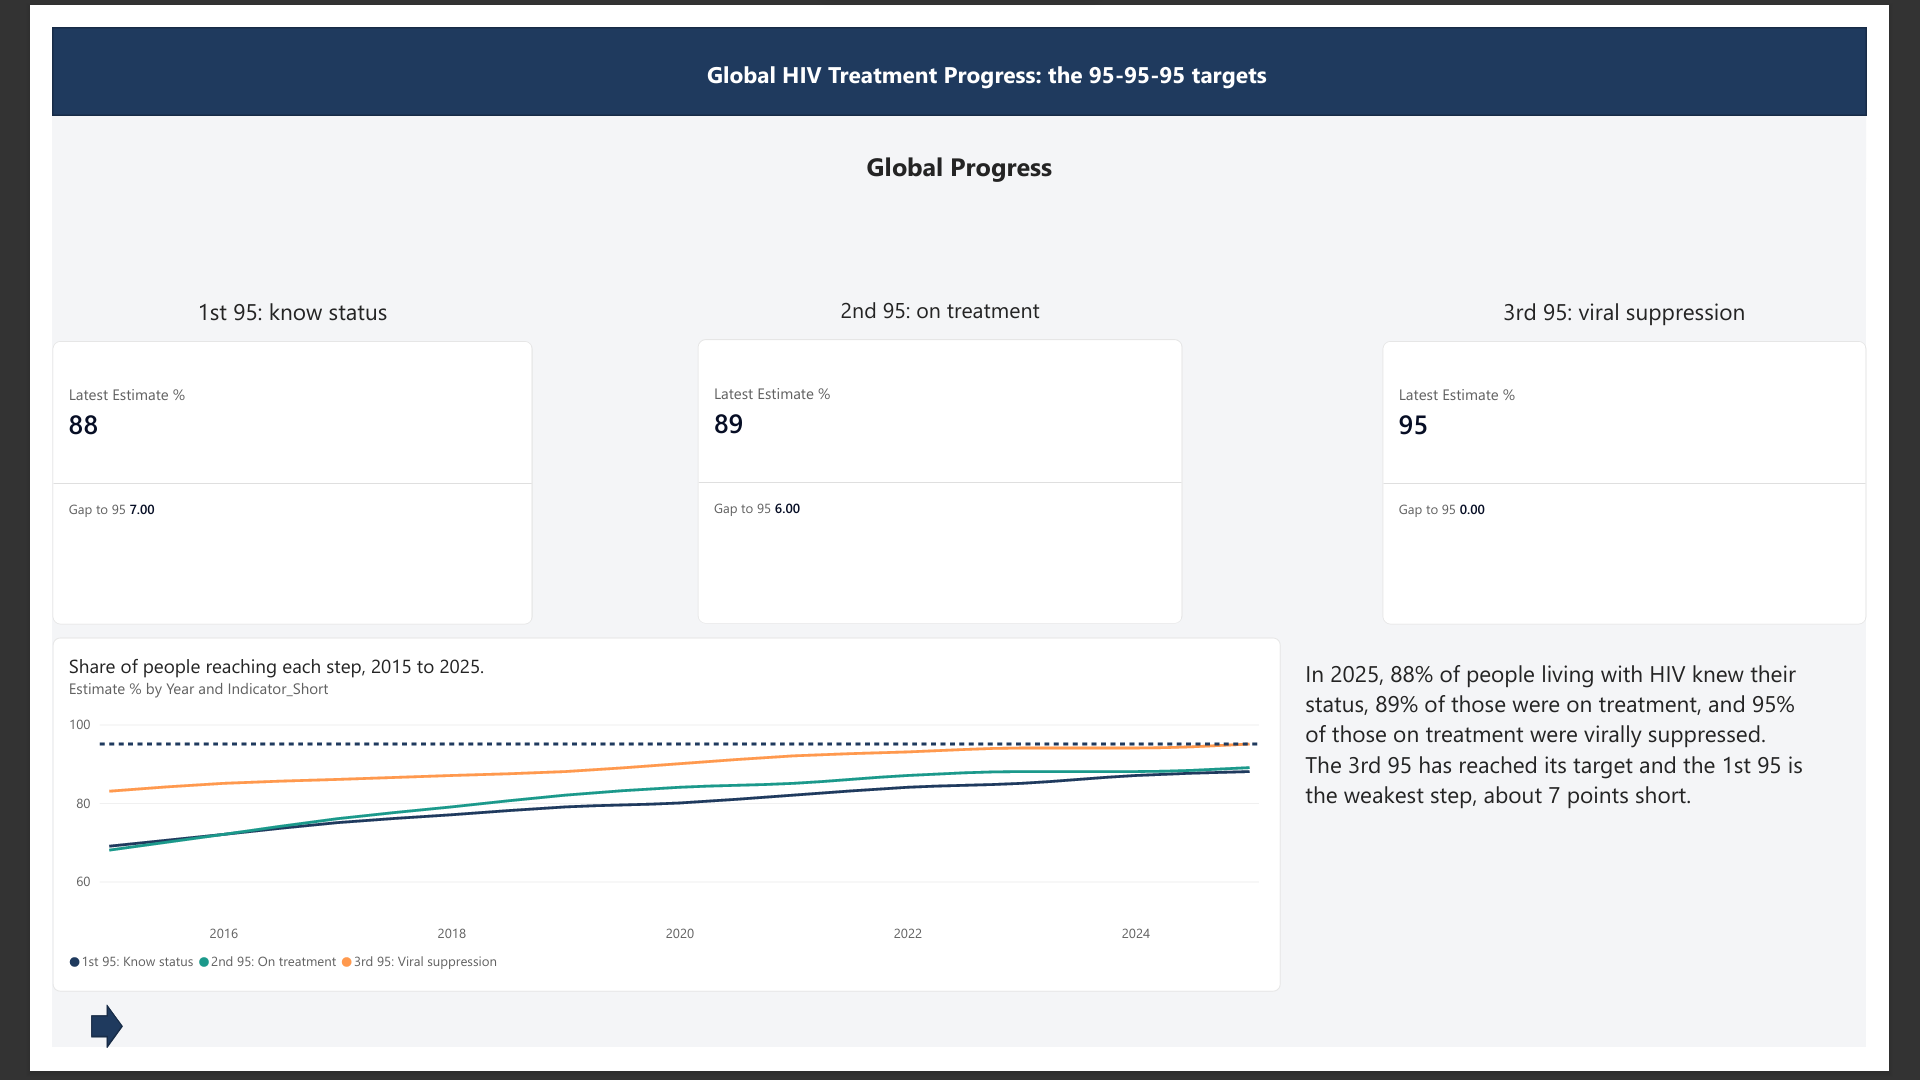

The page's visual inventory and layout, read from the dashboard file:
{"tool":"powerbi","page":{"name":"Global progress","canvas":[1920,1080],"ordinal":0},"visuals":[{"type":"shape","box":[0,0,1920,92.5],"z":0},{"type":"textbox","box":[290.2,32.9,1397.6,94.7],"z":1000},{"type":"lineChart","title":"Share of people reaching each step, 2015 to 2025.","fields":{"Category":["HIV_Data.Year"],"Series":["HIV_Data.Indicator_Short"],"Y":["HIV_Data.Estimate %"]},"box":[0,646.3,1300,374.6],"z":2000},{"type":"shape","box":[41.2,1035.3,32.9,45.3],"z":3000},{"type":"textbox","box":[1325.6,666.9,533.1,337.6],"z":4000},{"type":"cardVisual","title":"1st 95: know status","fields":{"Data":["HIV_Data.VAR LatestYear"]},"box":[0,284,508.4,347.9],"z":5000},{"type":"cardVisual","title":"2nd 95: on treatment","fields":{"Data":["HIV_Data.VAR LatestYear"]},"box":[683.4,284,512.5,347.9],"z":6000},{"type":"cardVisual","title":"3rd 95: viral suppression","fields":{"Data":["HIV_Data.VAR LatestYear"]},"box":[1407.9,284,512.5,347.9],"z":7000},{"type":"shape","box":[41.2,1034.7,32.9,45.3],"z":8000},{"type":"textbox","box":[0,127.5,1920,90],"z":8001}]}

Visuals, with their boxes in screenshot pixels (x1, y1, x2, y2), scaled from the page's 1920x1080 canvas onto the 1920x1080 screenshot:
shape: x1=0, y1=0, x2=1919, y2=92
textbox: x1=290, y1=33, x2=1688, y2=128
"Share of people reaching each step, 2015 to 2025." lineChart: x1=0, y1=646, x2=1300, y2=1021
shape: x1=41, y1=1035, x2=74, y2=1079
textbox: x1=1326, y1=667, x2=1859, y2=1004
"1st 95: know status" cardVisual: x1=0, y1=284, x2=508, y2=632
"2nd 95: on treatment" cardVisual: x1=683, y1=284, x2=1196, y2=632
"3rd 95: viral suppression" cardVisual: x1=1408, y1=284, x2=1919, y2=632
shape: x1=41, y1=1035, x2=74, y2=1079
textbox: x1=0, y1=128, x2=1919, y2=218
